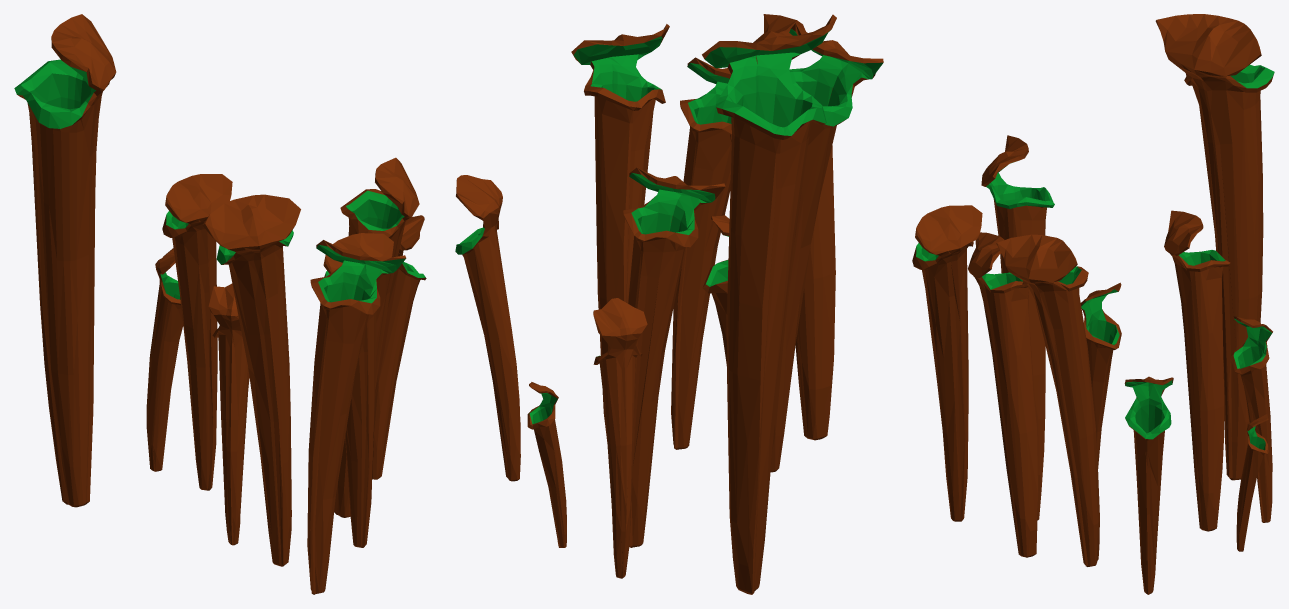
The model's file is ShrubTrumpet03.fbx.
The picture shows the model from 3 angles, left to right: view 1: azimuth 30°, elevation 25°; view 2: azimuth 150°, elevation 25°; view 3: azimuth 270°, elevation 25°; orthographic projection. The views are drawn at different scales.
Visible parts, largest first — view 1: ShrubTrumpet03; view 2: ShrubTrumpet03; view 3: ShrubTrumpet03.
Part boxes in pixels (bbox=[...]): ShrubTrumpet03: bbox=[14, 14, 426, 594]; ShrubTrumpet03: bbox=[455, 14, 883, 594]; ShrubTrumpet03: bbox=[912, 14, 1274, 594].
Bounding box in the file's own units: 77.38 × 101 × 73.45.
